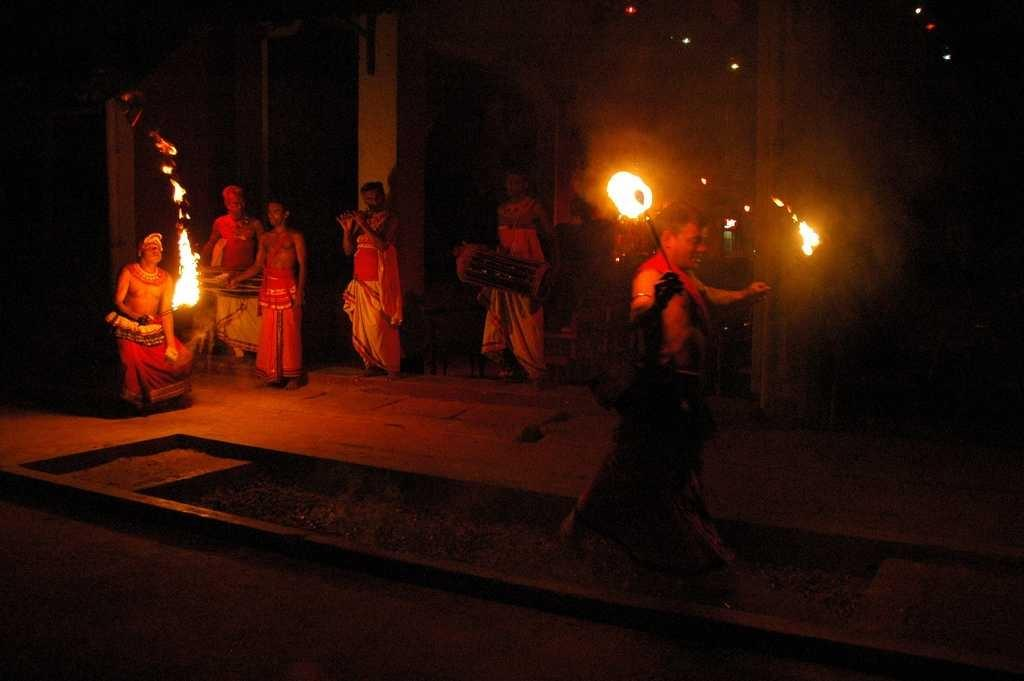fire: (166, 238, 218, 327), (606, 165, 662, 223), (788, 226, 842, 261)
